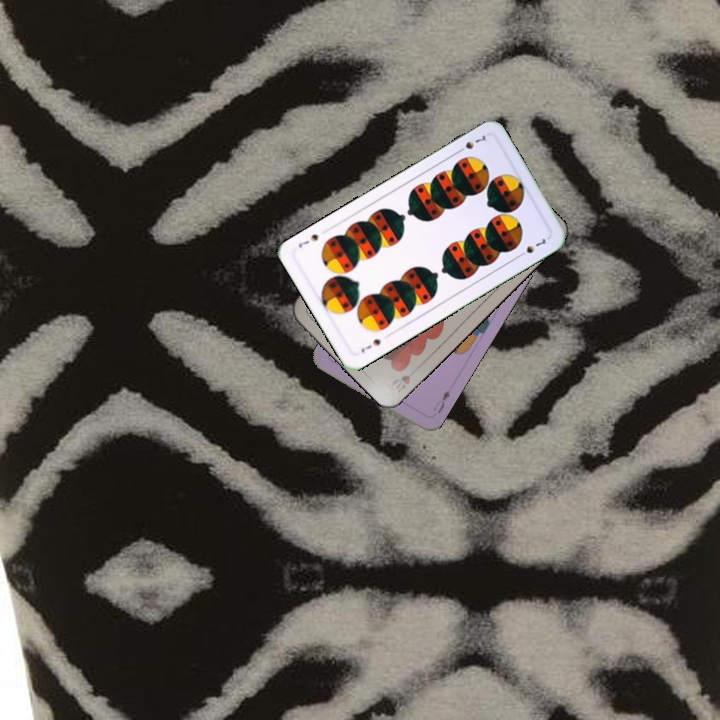EU: (429, 386, 453, 416)
H10: (386, 371, 413, 392)
S7: (453, 131, 490, 156), (357, 335, 384, 355)
